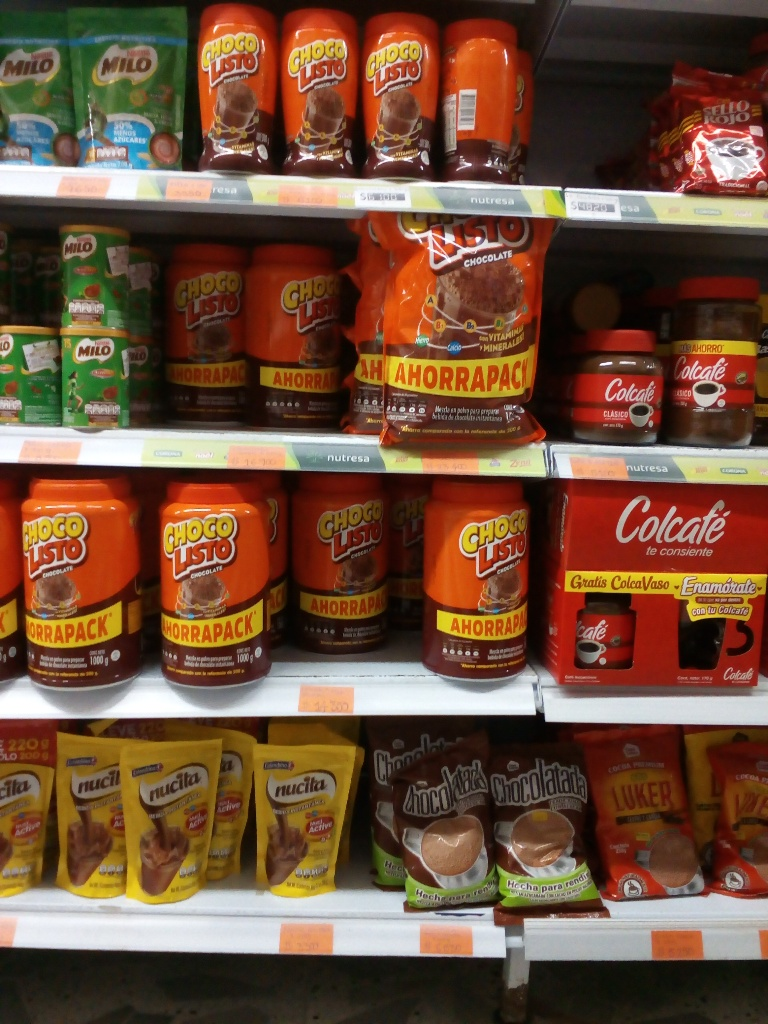COL0170103DYP1,500: (352, 218, 545, 435)
COL0170103TRR00100: (11, 465, 152, 692)
COL0170103TRR30000: (194, 4, 285, 179)
COL0170203LAT20000: (55, 215, 158, 337)
COL0170205DYP20000: (2, 0, 71, 168)
